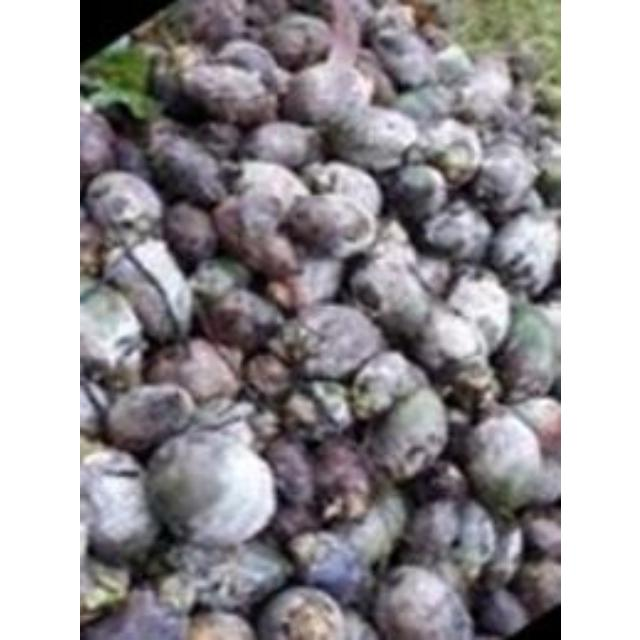damaged: (144, 424, 276, 548), (458, 413, 556, 521), (100, 237, 194, 347), (167, 534, 286, 612), (80, 447, 158, 563), (362, 387, 448, 483), (371, 564, 472, 640), (404, 497, 498, 578), (288, 303, 382, 381), (102, 380, 196, 454), (80, 41, 166, 121), (320, 104, 418, 174), (79, 283, 147, 382), (197, 282, 286, 356), (147, 128, 229, 208), (280, 192, 376, 260), (488, 211, 560, 299), (146, 340, 244, 404), (492, 301, 556, 399), (334, 490, 410, 572), (178, 62, 274, 126), (291, 532, 373, 606), (84, 169, 164, 243), (406, 305, 486, 379), (279, 58, 367, 124), (441, 270, 511, 350), (348, 350, 430, 418), (255, 584, 351, 640), (469, 142, 537, 214), (449, 54, 515, 126), (413, 118, 483, 184), (228, 159, 310, 215), (417, 201, 491, 263), (304, 161, 382, 219), (260, 12, 334, 72), (212, 37, 288, 93), (370, 26, 436, 88), (284, 377, 354, 435), (242, 119, 314, 170), (79, 554, 133, 622), (384, 164, 446, 222), (162, 200, 216, 266), (438, 358, 499, 416), (284, 253, 344, 309), (504, 394, 560, 454), (268, 316, 330, 370), (366, 231, 424, 281), (474, 586, 528, 638), (188, 256, 250, 300), (187, 1, 246, 47), (79, 109, 115, 183), (242, 350, 294, 400), (152, 564, 202, 616), (390, 83, 450, 125), (248, 231, 300, 279), (514, 557, 560, 611), (192, 117, 242, 163), (492, 110, 542, 154), (150, 1, 202, 43), (323, 482, 372, 526), (111, 132, 153, 180), (80, 427, 120, 475), (319, 1, 375, 35), (79, 375, 111, 433), (410, 253, 452, 295), (413, 10, 455, 52), (431, 44, 474, 84), (245, 398, 283, 442), (264, 276, 304, 314), (240, 1, 292, 30), (80, 216, 106, 272), (507, 49, 541, 85), (91, 34, 132, 62), (532, 82, 560, 116), (432, 2, 466, 30), (388, 3, 418, 31)
